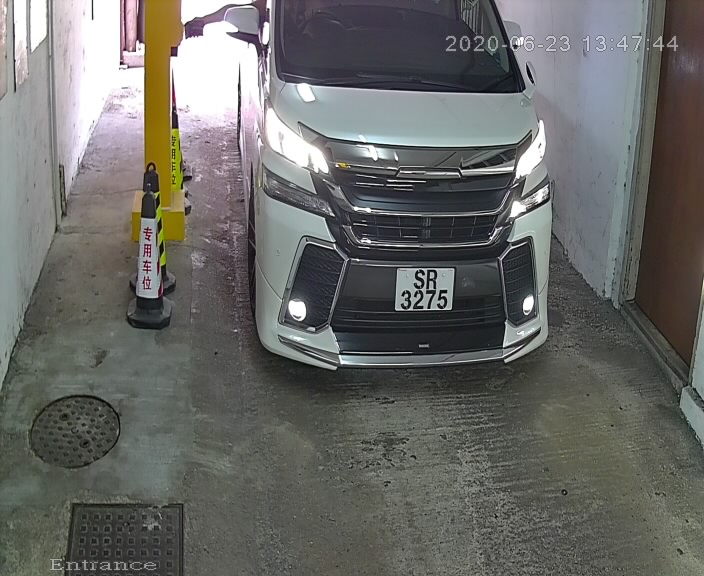privatecar: (214, 1, 575, 400)
